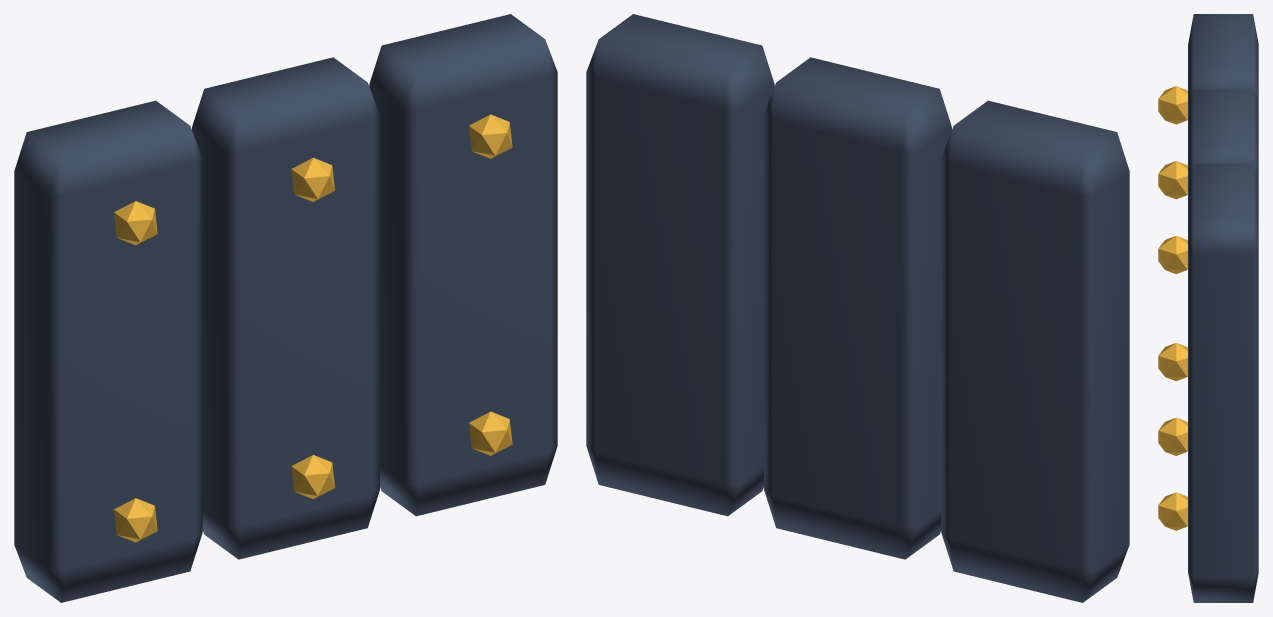
File: module-armor.glb
3 views of the same model, side by side, from view 1: azimuth 30°, elevation 25°; view 2: azimuth 150°, elevation 25°; view 3: azimuth 270°, elevation 25° (orthographic). The views are drawn at different scales.
Visible parts, largest first — view 1: Armor plate, Armor plate.002, Armor plate.001, Armor bolt.005, Armor bolt, Armor bolt.002, Armor bolt.001, Armor bolt.003, Armor bolt.004; view 2: Armor plate, Armor plate.002, Armor plate.001; view 3: Armor plate.002, Armor plate.001, Armor plate, Armor bolt, Armor bolt.001, Armor bolt.004, Armor bolt.005, Armor bolt.002, Armor bolt.003.
Boxes of the visible parts, x1,y1,x2,y2 form: Armor plate: (14, 100, 202, 602); Armor plate.002: (369, 14, 557, 516); Armor plate.001: (192, 57, 379, 559); Armor bolt.005: (469, 114, 512, 158); Armor bolt: (114, 498, 157, 542); Armor bolt.002: (291, 455, 334, 499); Armor bolt.001: (114, 201, 157, 245); Armor bolt.003: (291, 157, 334, 201); Armor bolt.004: (469, 411, 512, 455); Armor plate: (941, 100, 1129, 602); Armor plate.002: (586, 14, 774, 516); Armor plate.001: (764, 57, 951, 559); Armor plate.002: (1188, 163, 1258, 602); Armor plate.001: (1188, 88, 1258, 193); Armor plate: (1188, 14, 1258, 118); Armor bolt: (1158, 343, 1187, 381); Armor bolt.001: (1158, 86, 1187, 124); Armor bolt.004: (1158, 492, 1187, 530); Armor bolt.005: (1158, 235, 1187, 273); Armor bolt.002: (1158, 417, 1187, 455); Armor bolt.003: (1158, 161, 1187, 199).
Size of the model in its own units: 2.15 by 1.8 by 0.4266.
